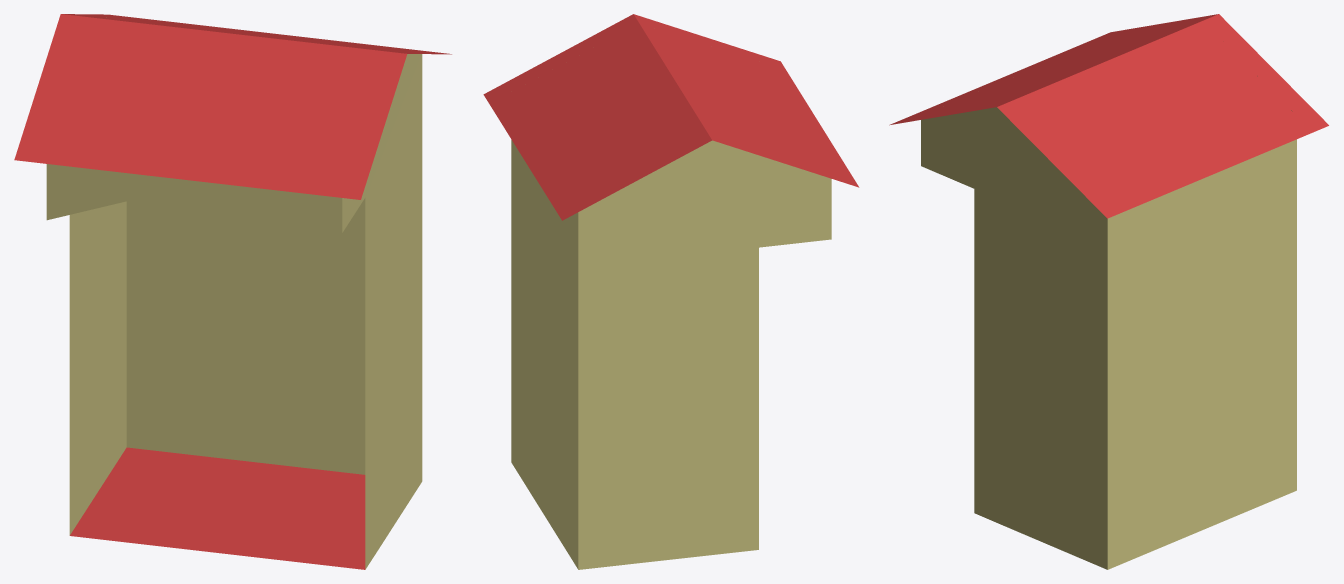
3 views of the same model, side by side, from view 1: azimuth 30°, elevation 25°; view 2: azimuth 150°, elevation 25°; view 3: azimuth 270°, elevation 25° (orthographic). The views are drawn at different scales.
Size of the model in its own units: 9.6 by 9.6 by 10.31.
